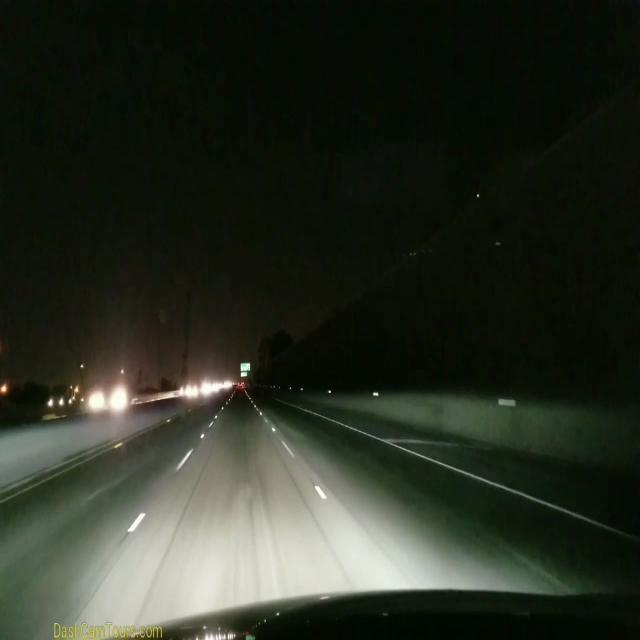street-signs: (241, 362, 250, 371), (242, 372, 248, 378)
